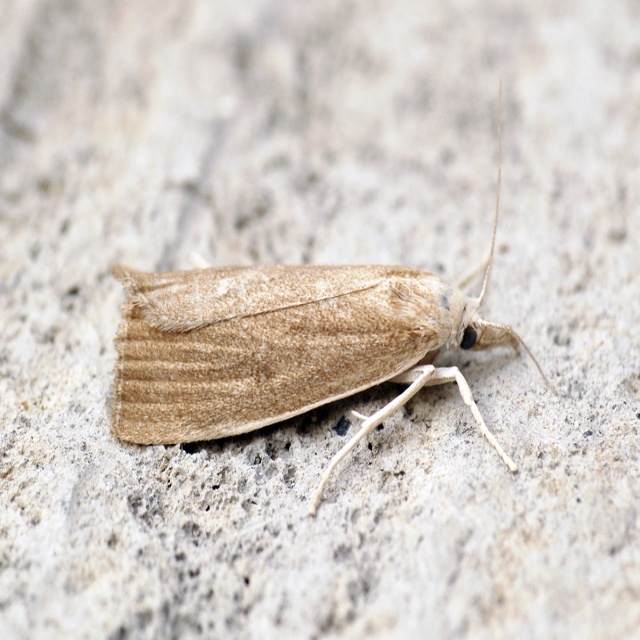Moths and butterflies: (110, 72, 554, 517)
